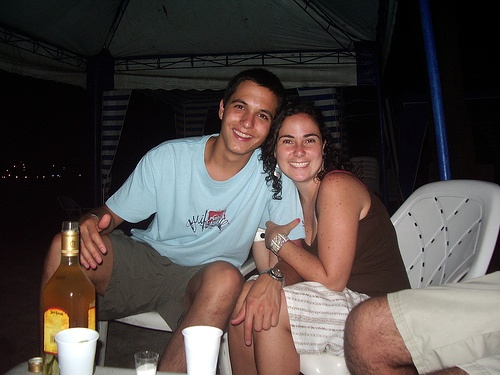head: (218, 66, 288, 156), (273, 106, 333, 189)
person: (64, 67, 286, 373), (232, 99, 409, 375)
